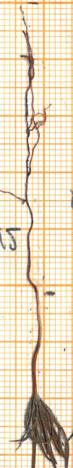flower: (8, 391, 73, 468)
root: (0, 1, 54, 294)
stem: (26, 294, 46, 390)
